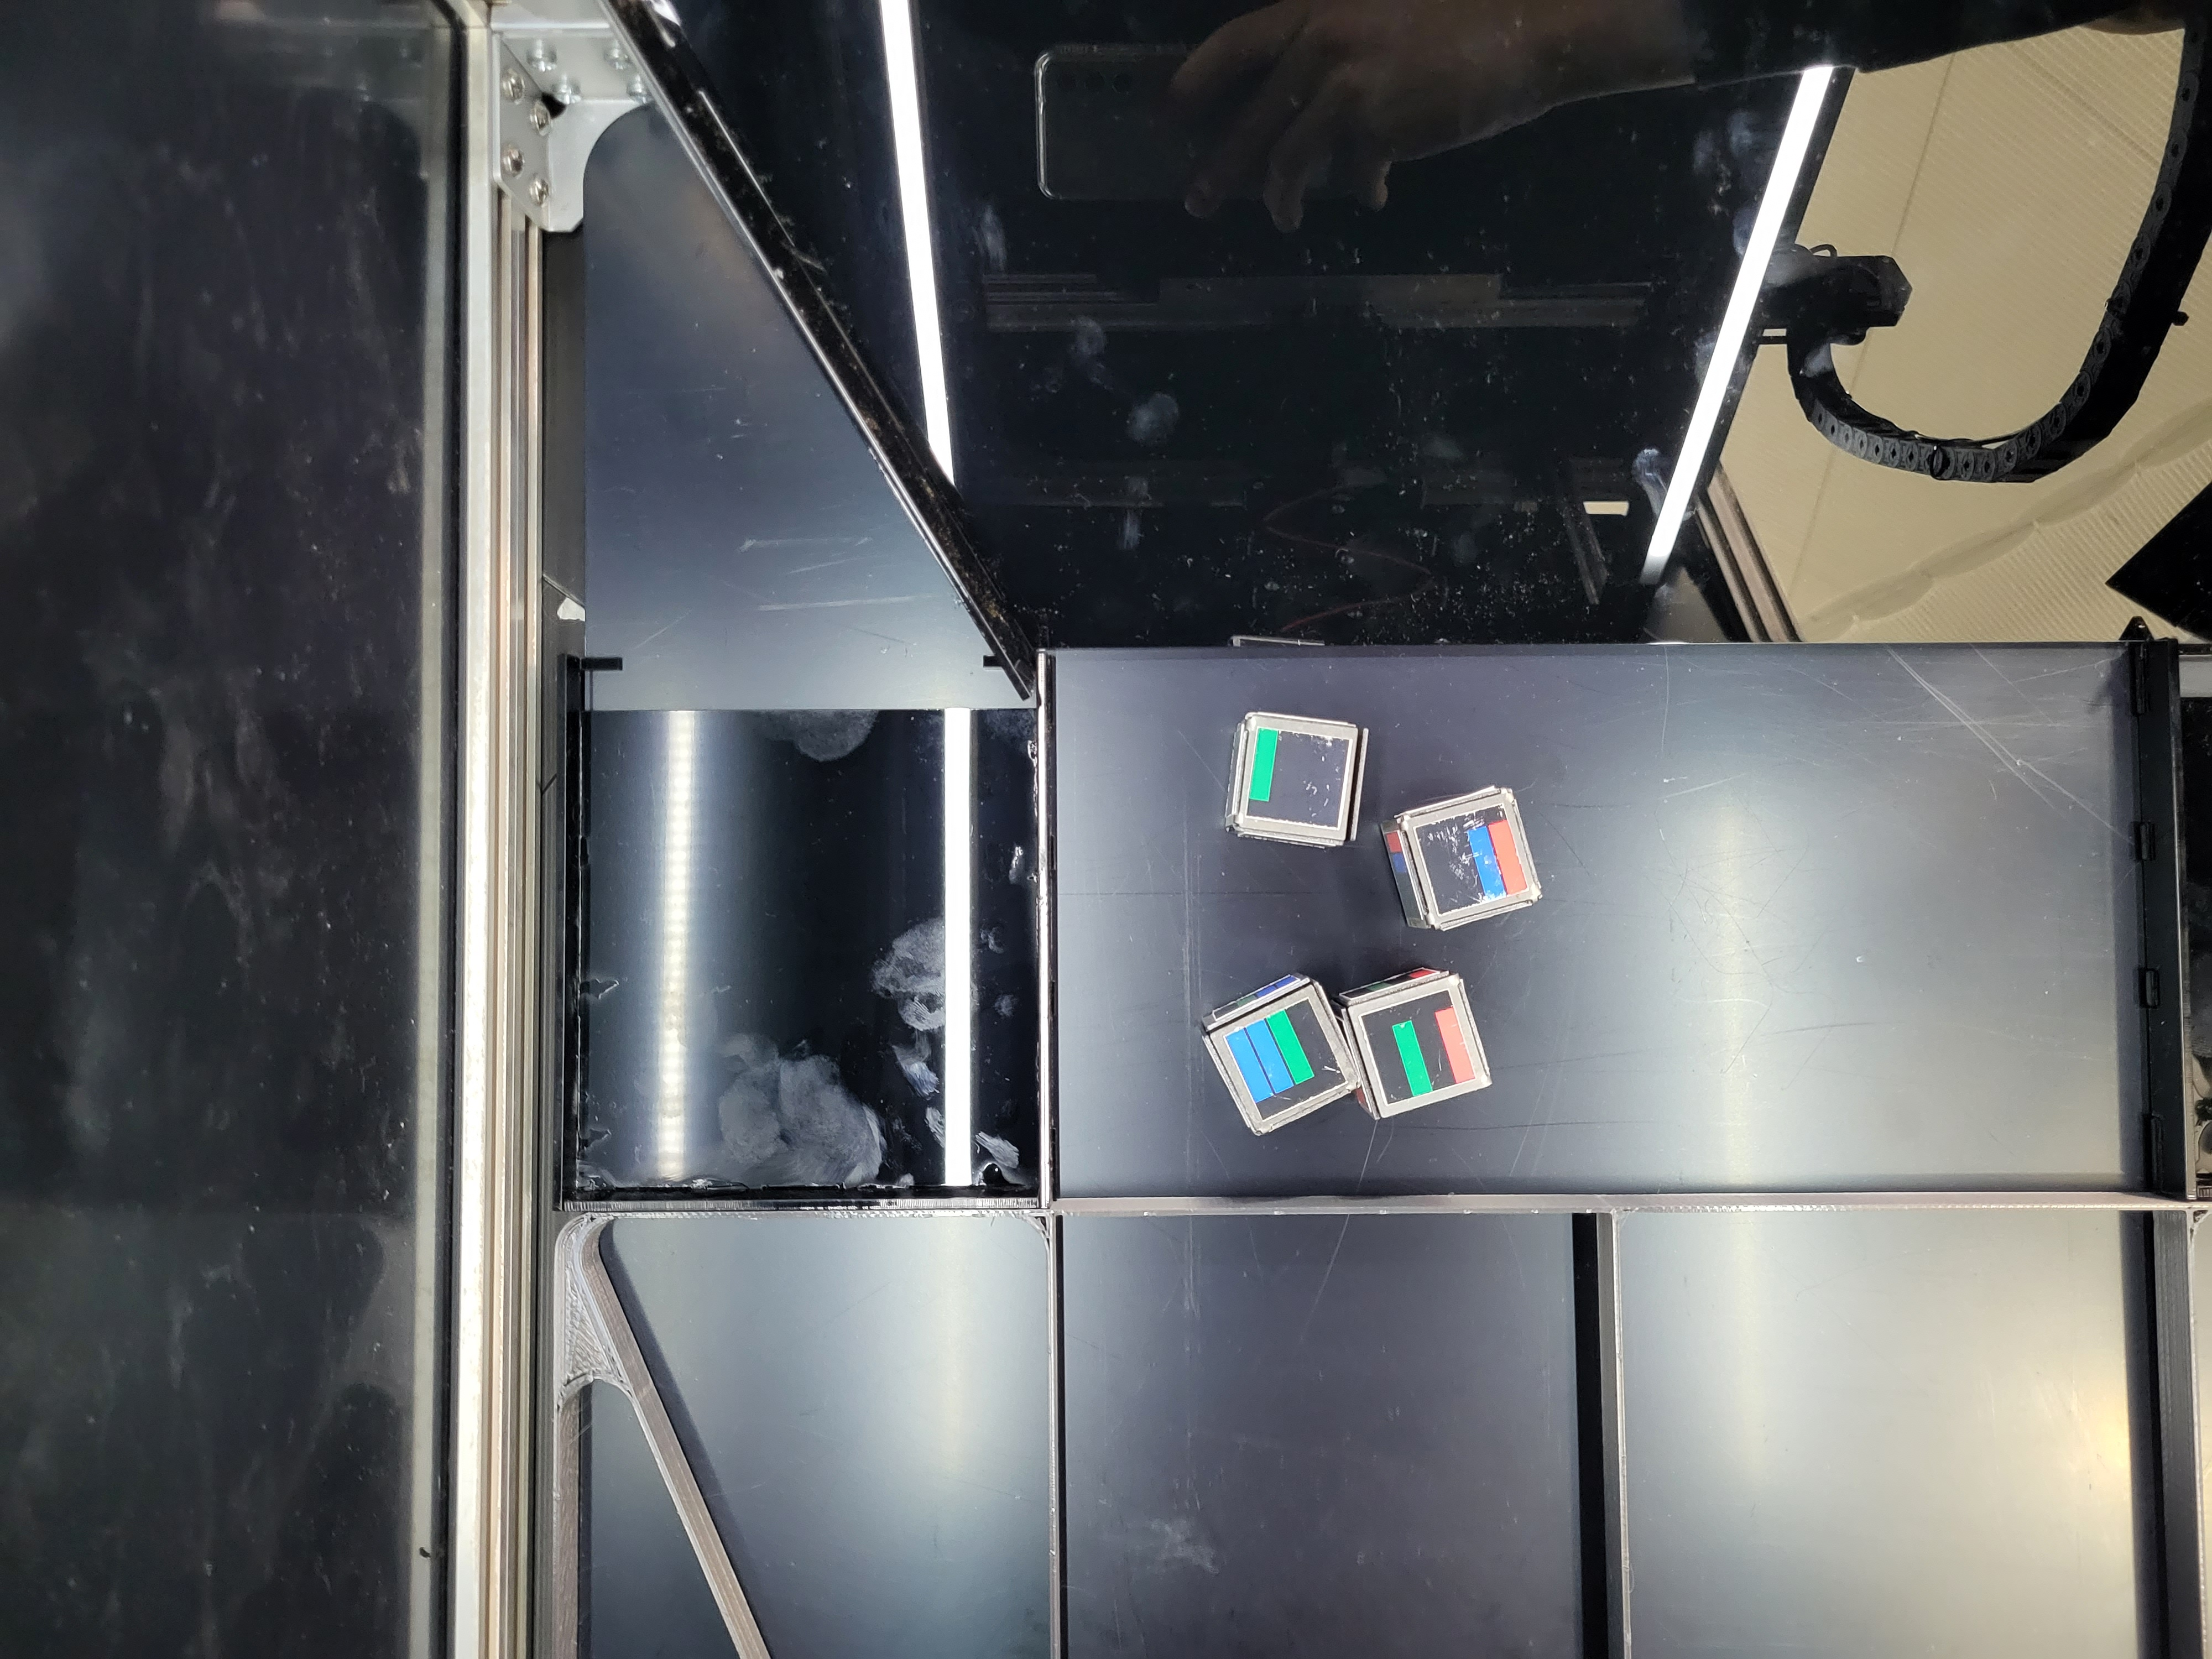Cube: (1181, 964, 1348, 1152), (1371, 767, 1555, 934), (1341, 960, 1512, 1133), (1211, 699, 1374, 857)
